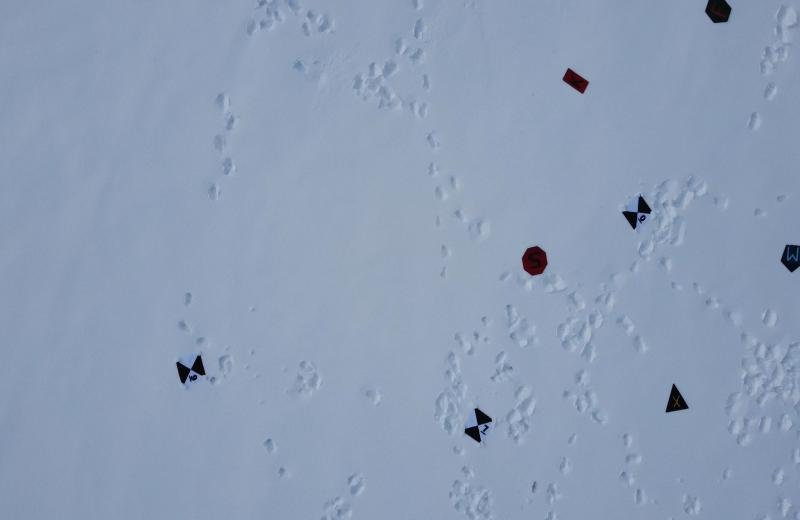Hexagon: (705, 0, 732, 29)
Octagon: (520, 242, 549, 278)
Pentagon: (778, 240, 800, 274)
Rectangle: (562, 66, 588, 99)
Triangle: (663, 382, 688, 416)
